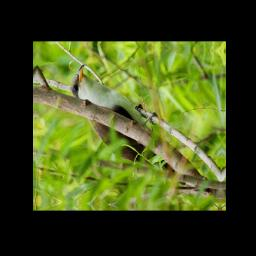Cuckoo: (67, 60, 191, 194)
